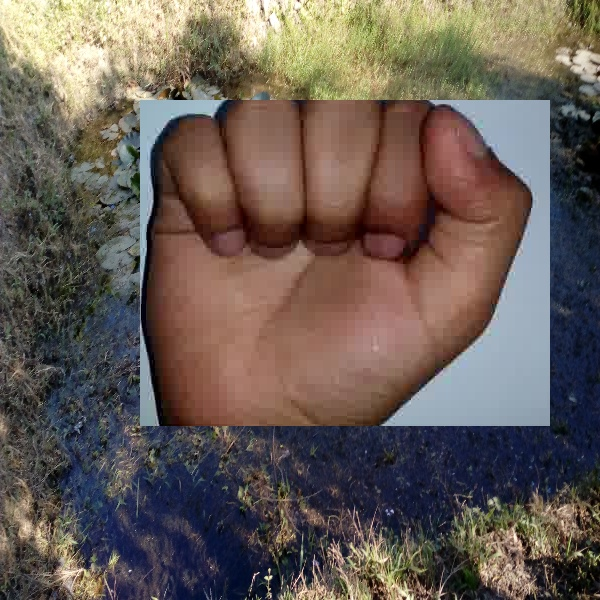A: (140, 100, 550, 426)
